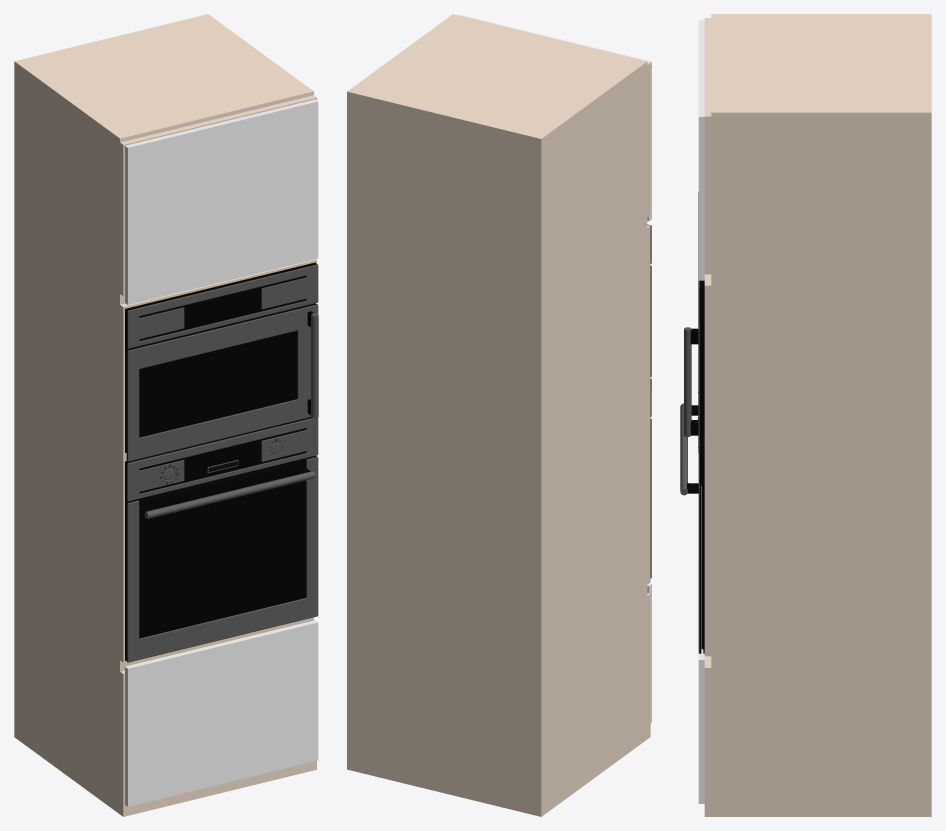
Rendered from KTCH_ELIX_Cabinet_60_60_200_Oven_Microwave.FBX.
3 views of the same model, side by side, from view 1: azimuth 30°, elevation 25°; view 2: azimuth 150°, elevation 25°; view 3: azimuth 270°, elevation 25° (orthographic). The views are drawn at different scales.
Parts seen in each view (by area): view 1: KTCH_ELIX_Cabinet_60_60_200_Oven_Microwave; view 2: KTCH_ELIX_Cabinet_60_60_200_Oven_Microwave; view 3: KTCH_ELIX_Cabinet_60_60_200_Oven_Microwave.
Boxes of the visible parts, bbox=[...] form: KTCH_ELIX_Cabinet_60_60_200_Oven_Microwave: bbox=[14, 14, 318, 816]; KTCH_ELIX_Cabinet_60_60_200_Oven_Microwave: bbox=[347, 14, 651, 816]; KTCH_ELIX_Cabinet_60_60_200_Oven_Microwave: bbox=[680, 14, 931, 816].
Bounding box in the file's own units: 60 × 64.7 × 200.
